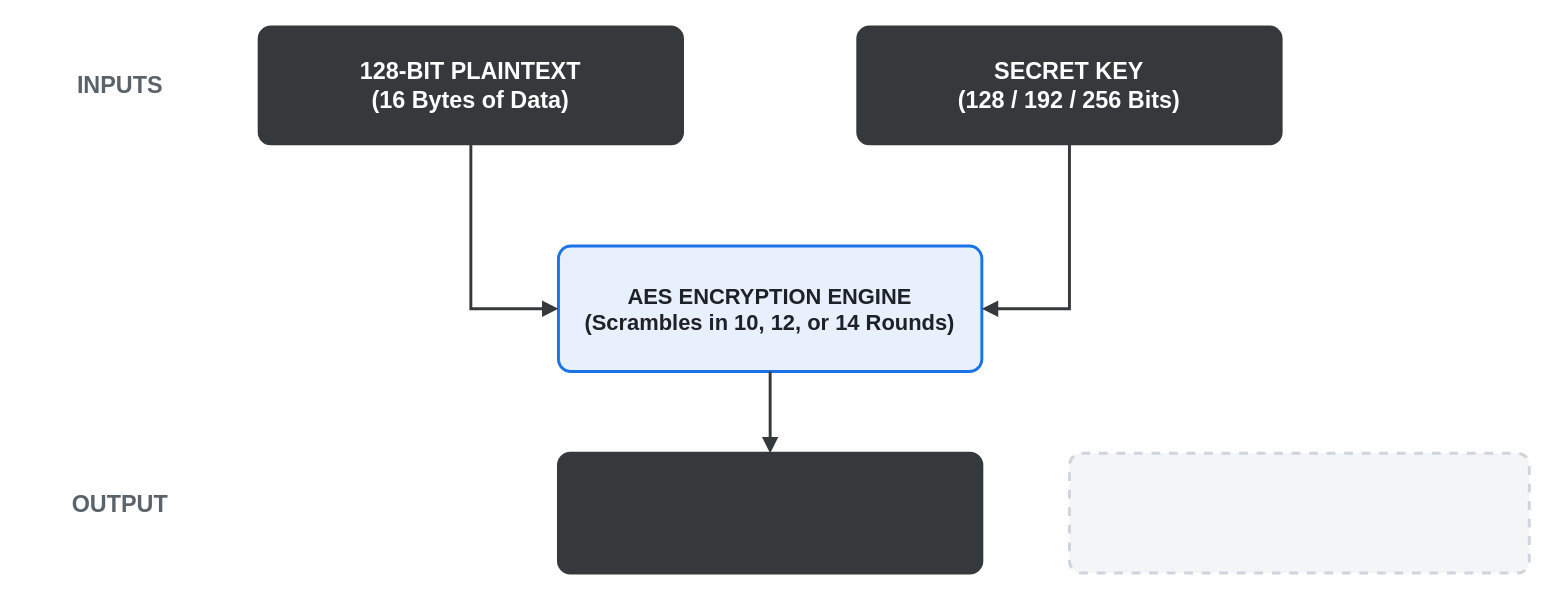
This 1555x599 diagram has some shape labels left out. The shapes that lost their labels are listed below. From the top down, each one's box as (x1, y1, x2, y2) in pixels, then its label:
(556, 451, 983, 574): 128-BIT CIPHERTEXT (Unreadable Encrypted Block)
(1067, 451, 1530, 574): Same key also runs in reverse to decrypt back to Plaintext!
